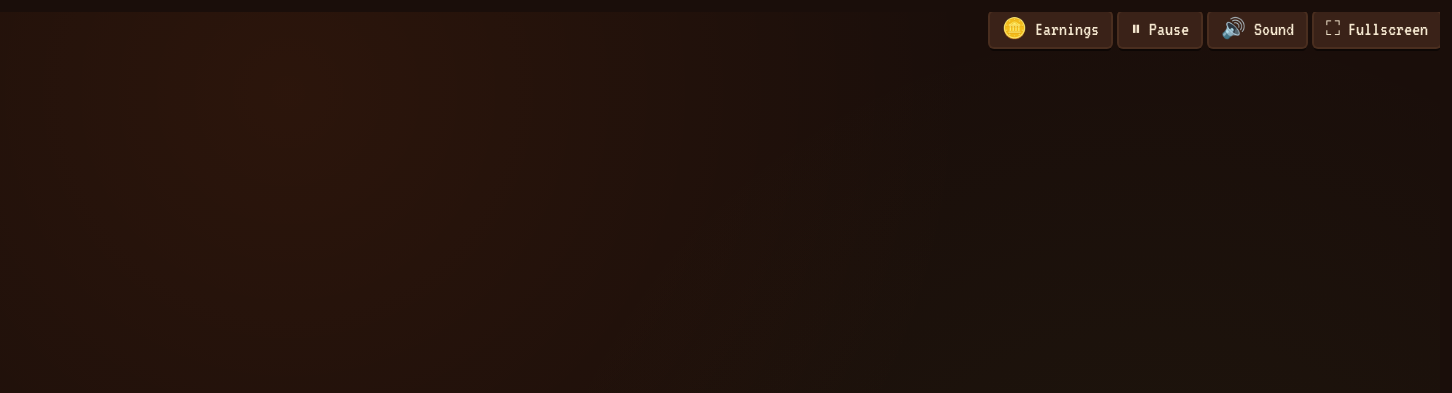
Test: GameShell › toggles the mute control
This screenshot has width=1452, height=393.
What coordinates should you click on to do the following:
click the button with aria-label "mute audio"
I would click on:
 (1258, 30)
Its box is x1=1209 y1=12 x2=1306 y2=47.
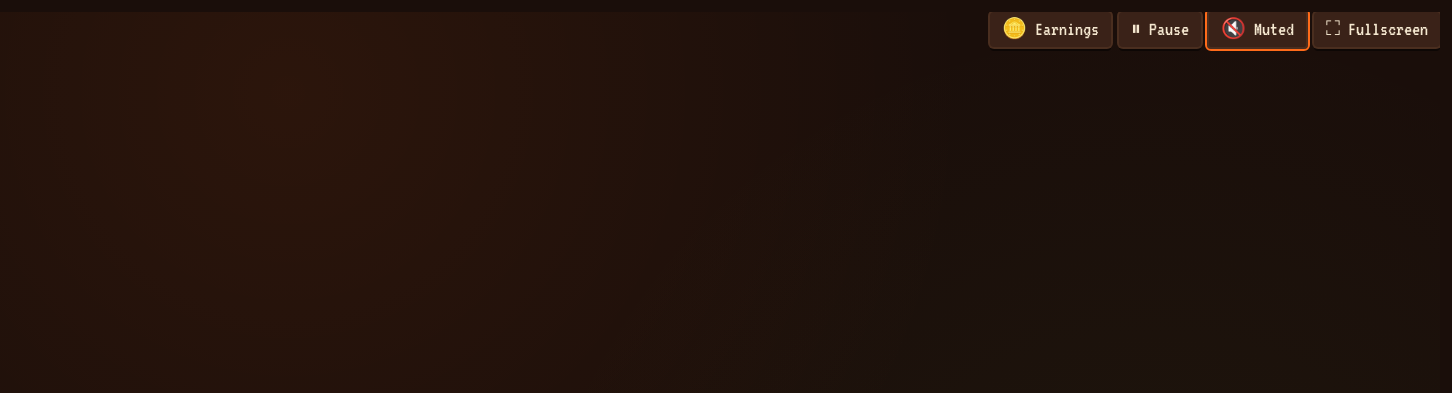
Check: the button with aria-label "unmute audio" is shown, box x1=1209 y1=12 x2=1306 y2=47
